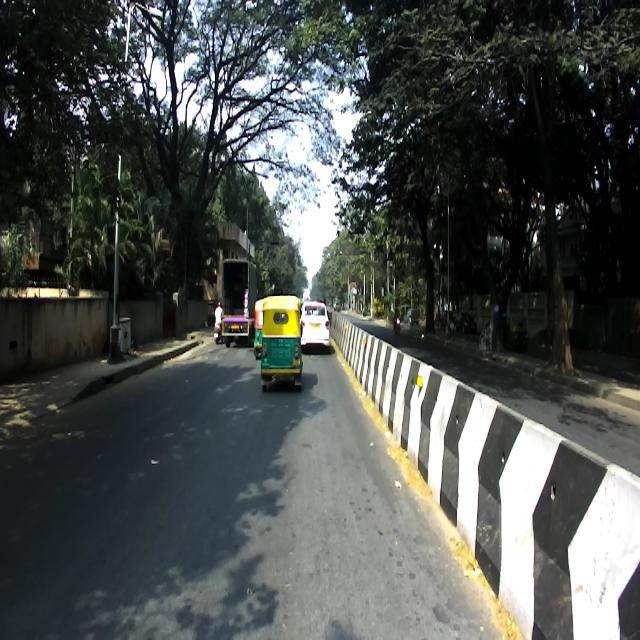auto ahead at: (262, 297, 302, 393)
truck ahead at: (214, 255, 253, 346)
